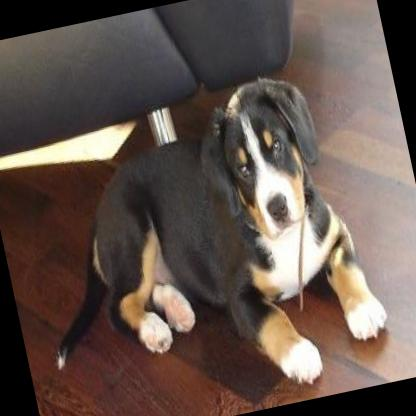EntleBucher: (8, 60, 397, 416)
